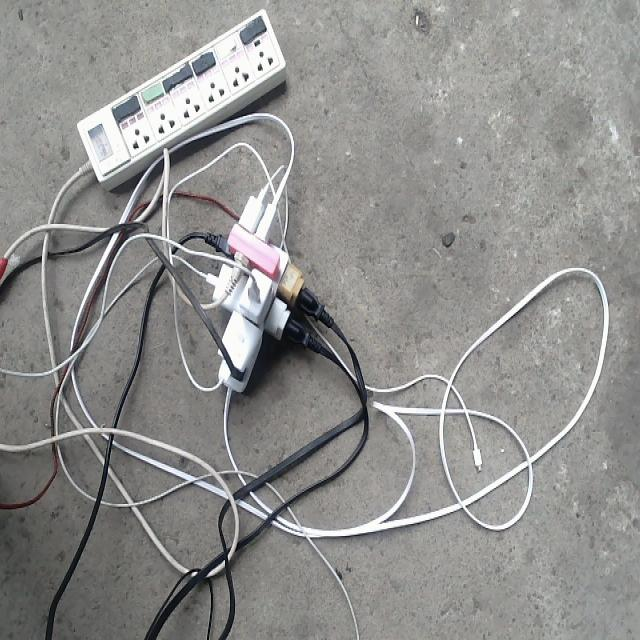-: (203, 183, 308, 392)
